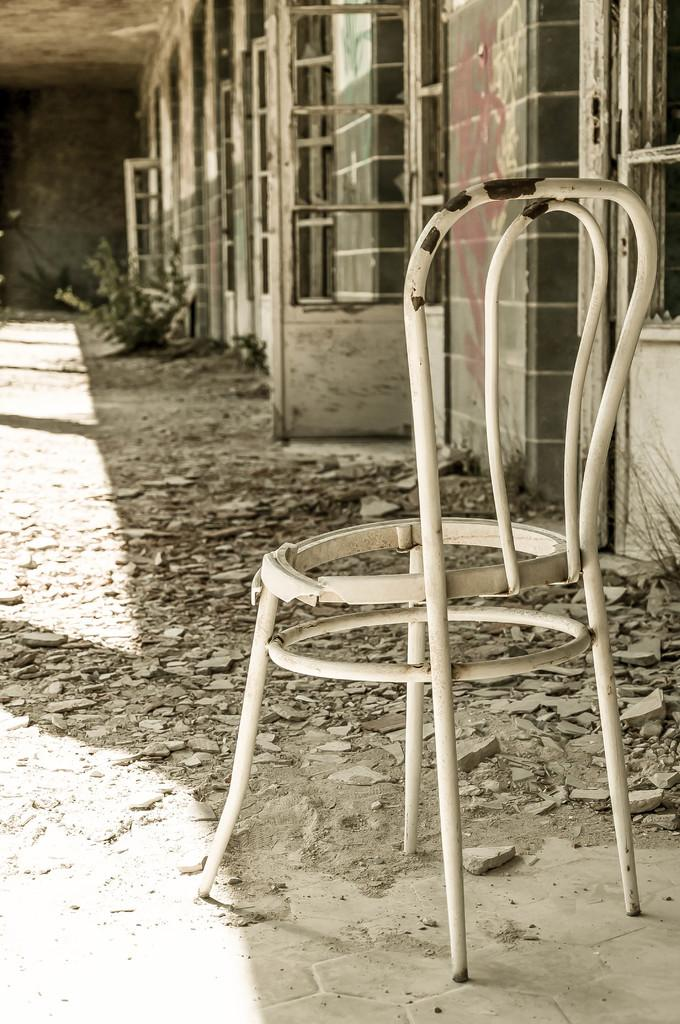Chair: (213, 145, 649, 948)
